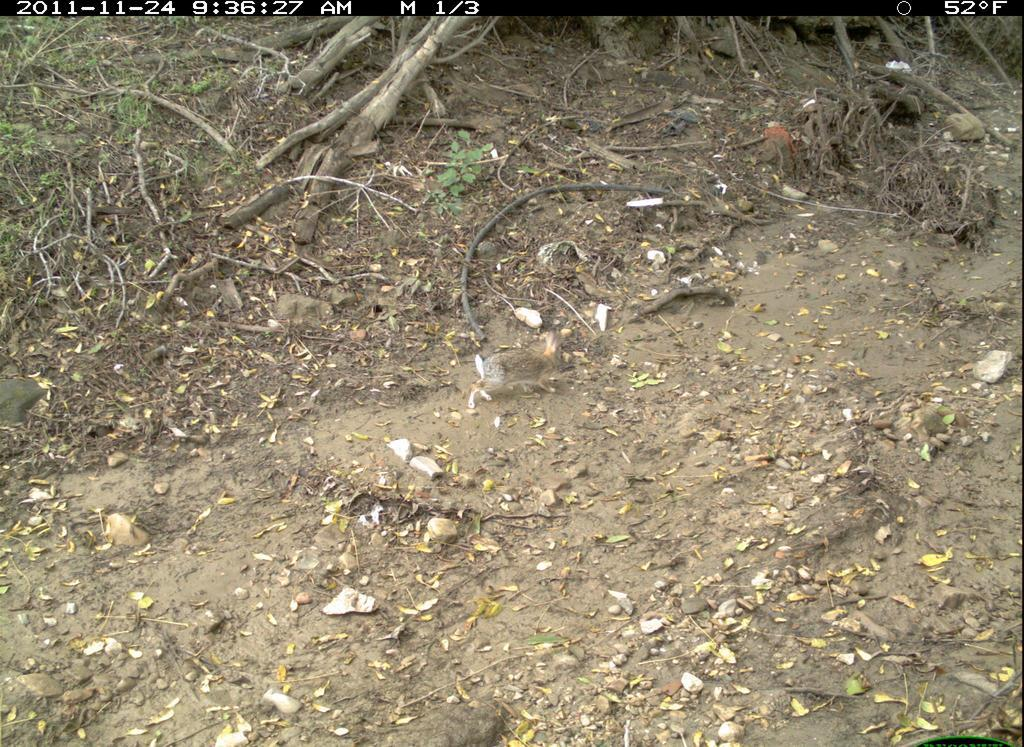rabbit: (466, 332, 573, 414)
